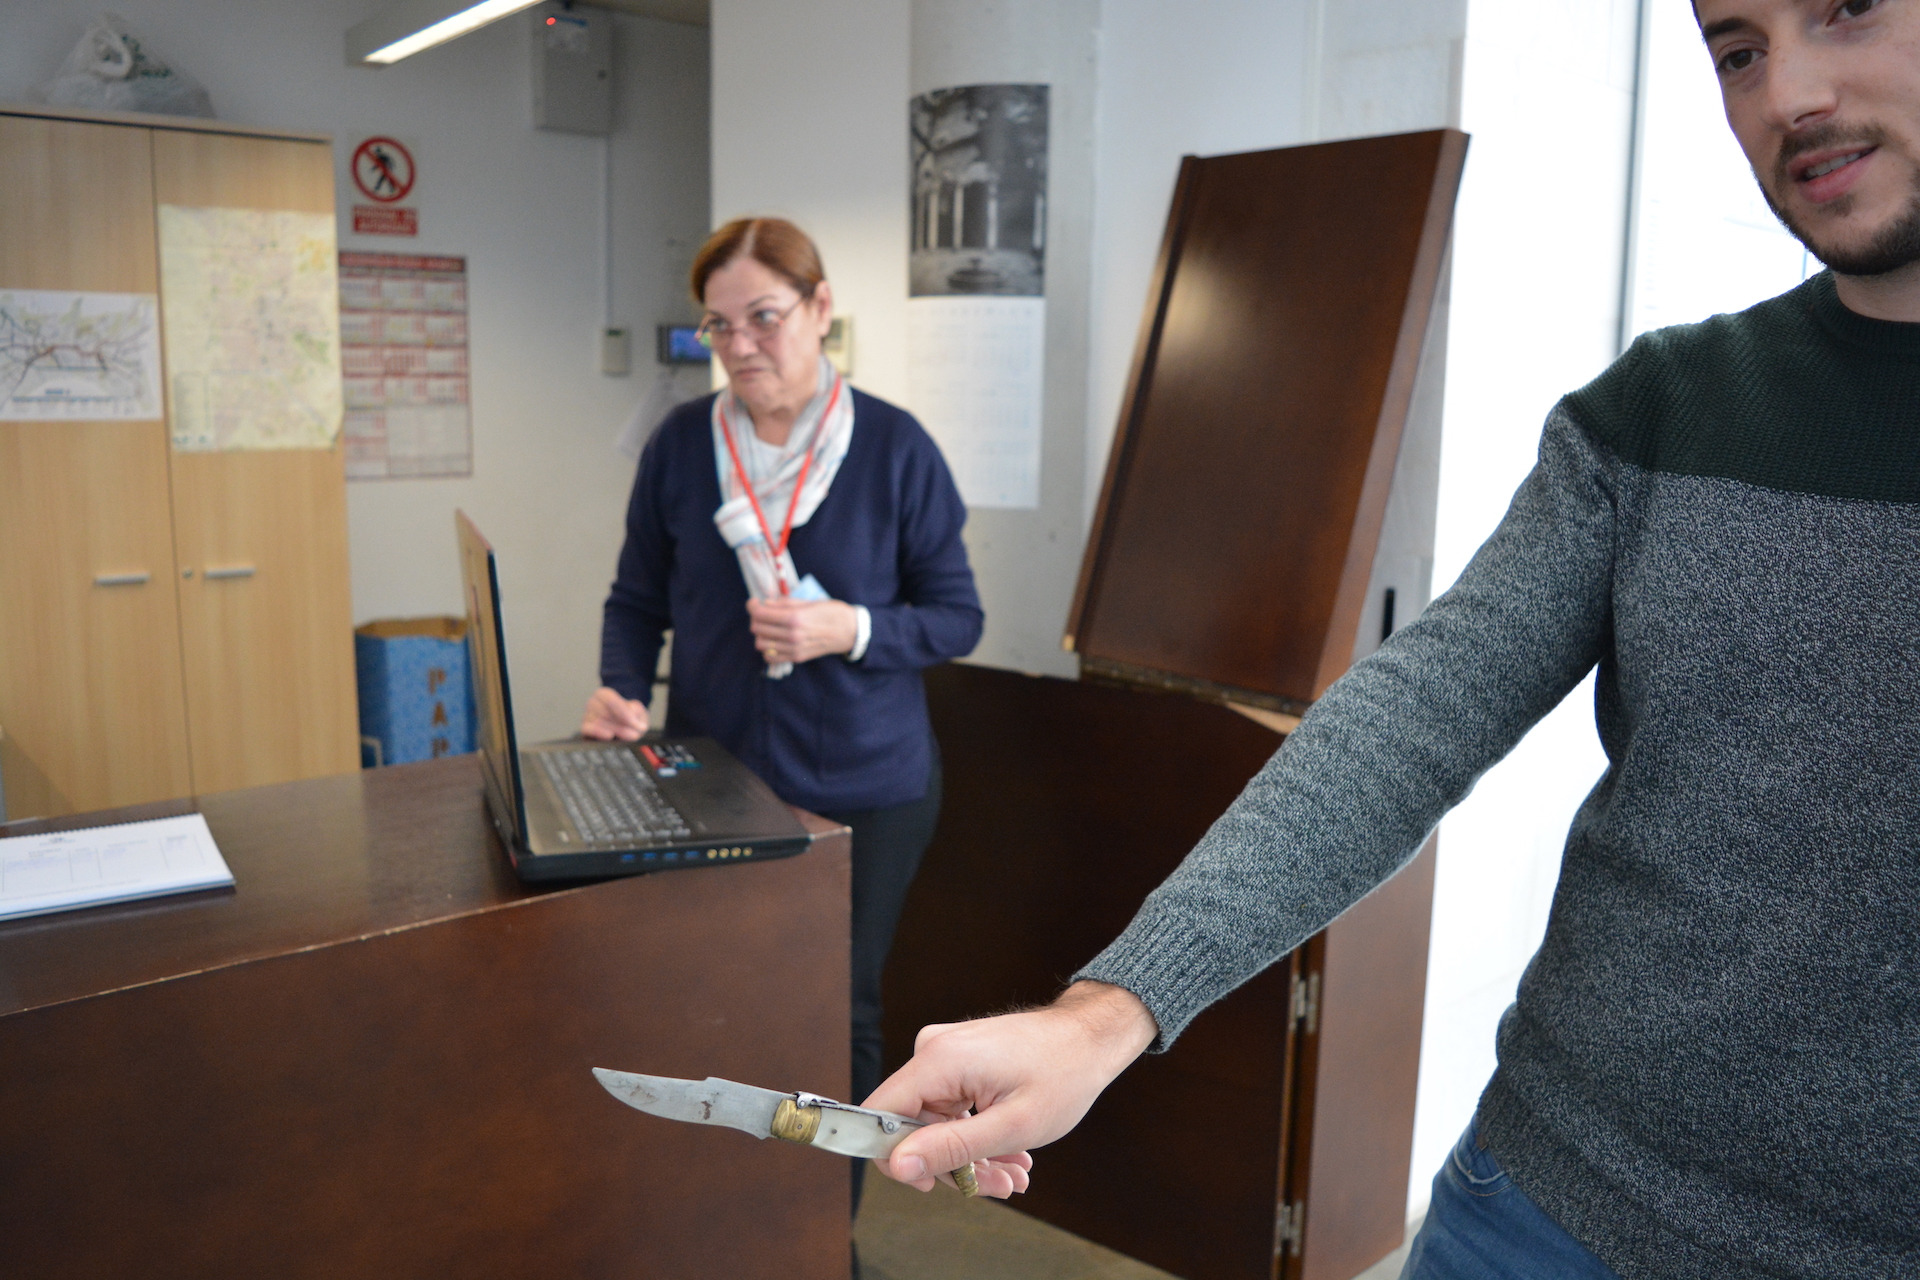knife: (579, 1051, 991, 1213)
